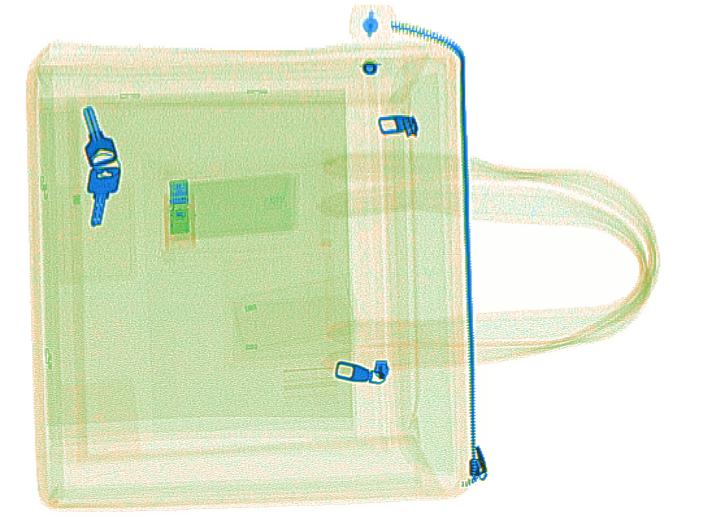USBFlashDisk: (165, 178, 197, 239)
